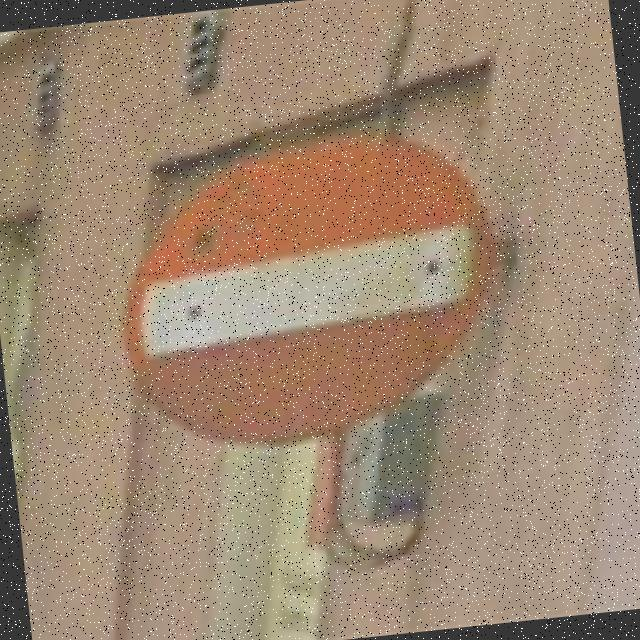Zakaz wjazdu: (98, 112, 510, 463)
